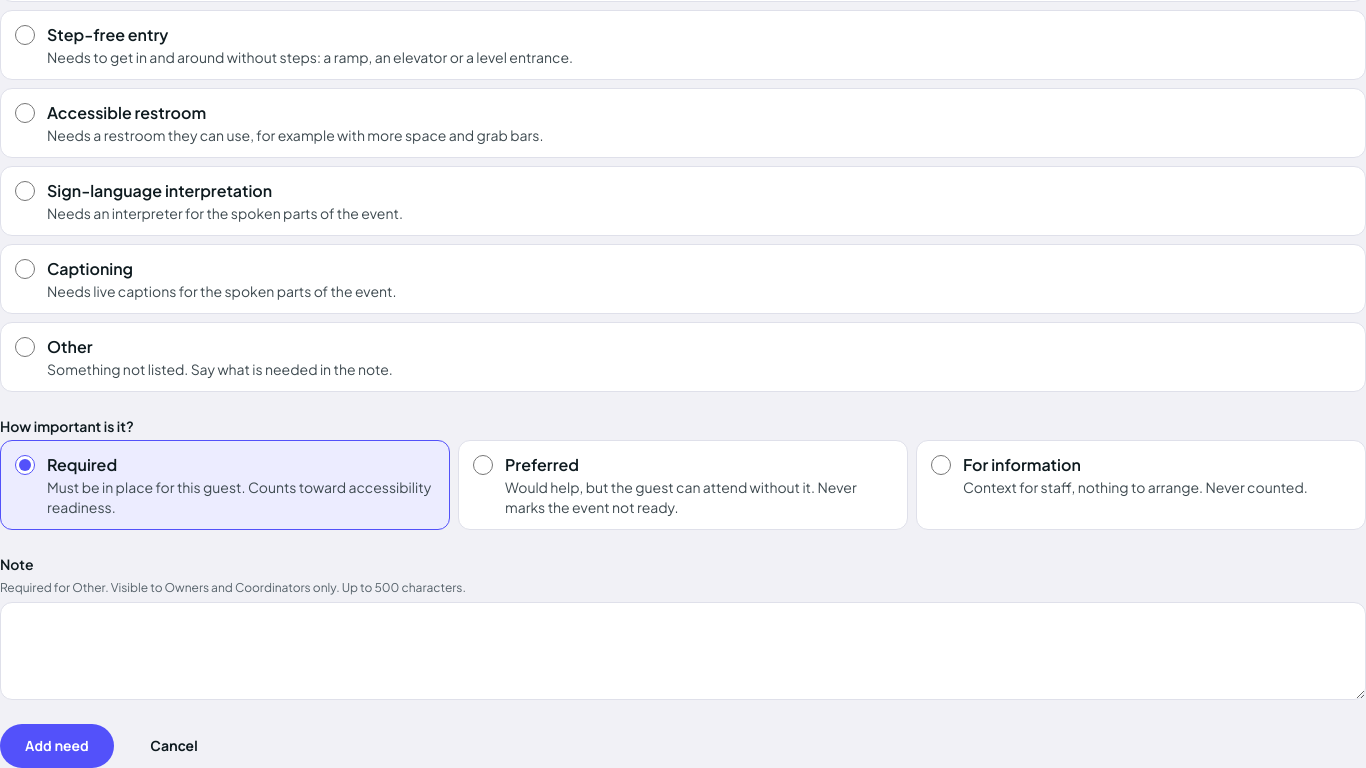
it: RequirementForm › shows a refusal from the server in a banner
(page scrolled)
Click the button "Add need" at [57, 746], box [0, 724, 114, 767]
(page scrolled)
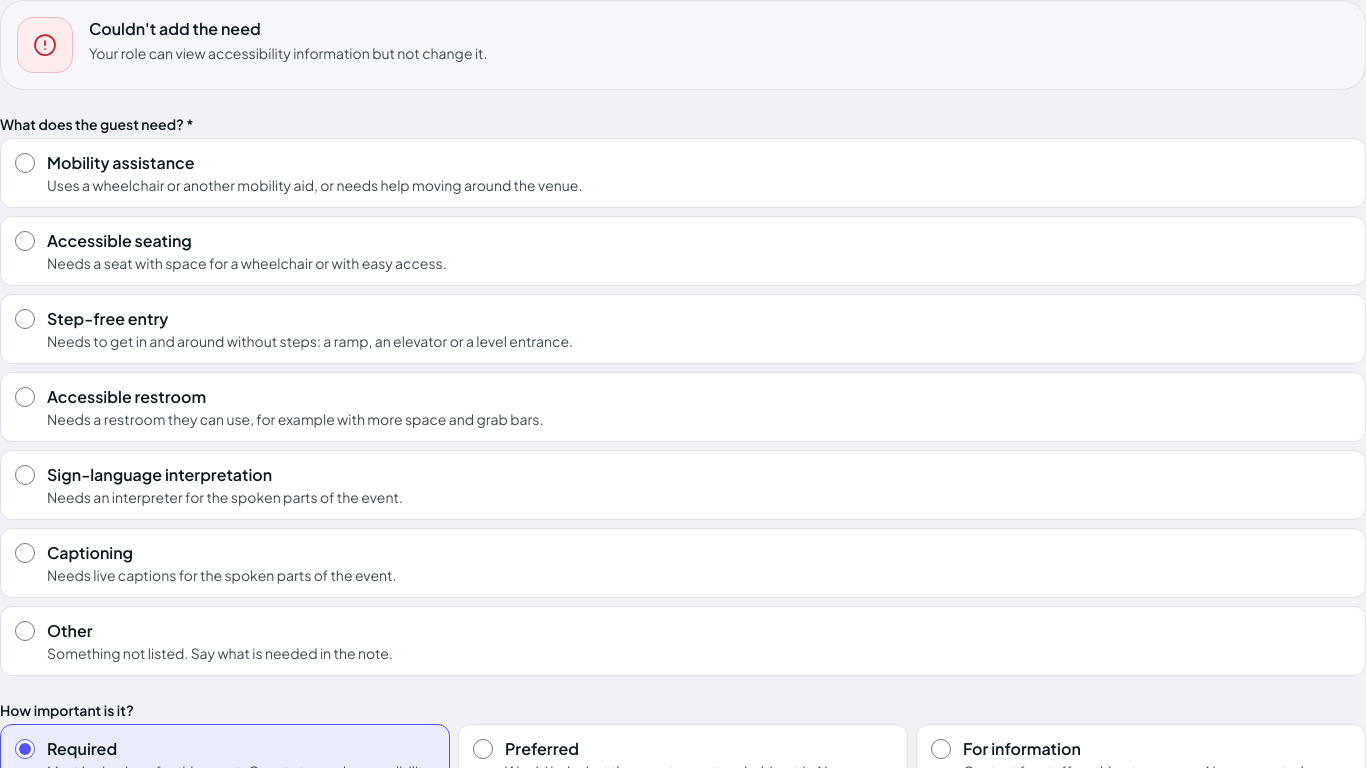
Result: the text "Couldn't add the need" is shown at [88, 17, 261, 39]
Result: the text "not change it" is shown at [89, 44, 488, 62]
